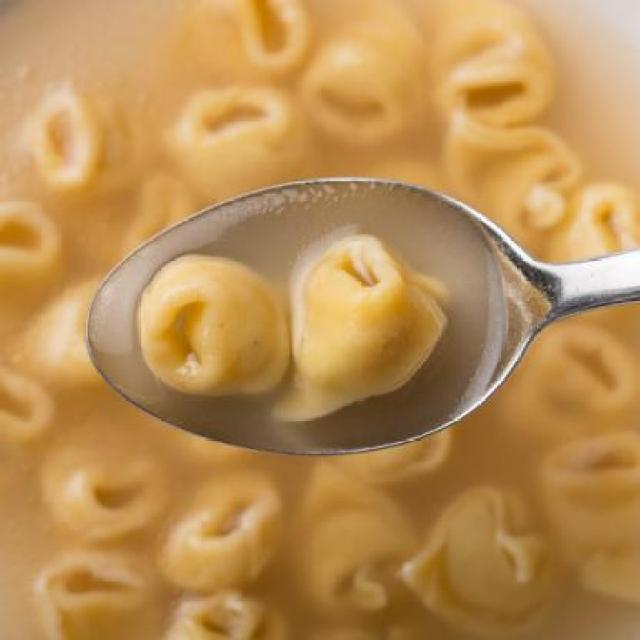Tortellini in broth: (149, 222, 465, 410)
